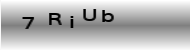7: (21, 16, 36, 30)
R: (47, 12, 64, 27)
U: (82, 8, 97, 22)
b: (100, 9, 116, 23)
i: (68, 14, 75, 29)
